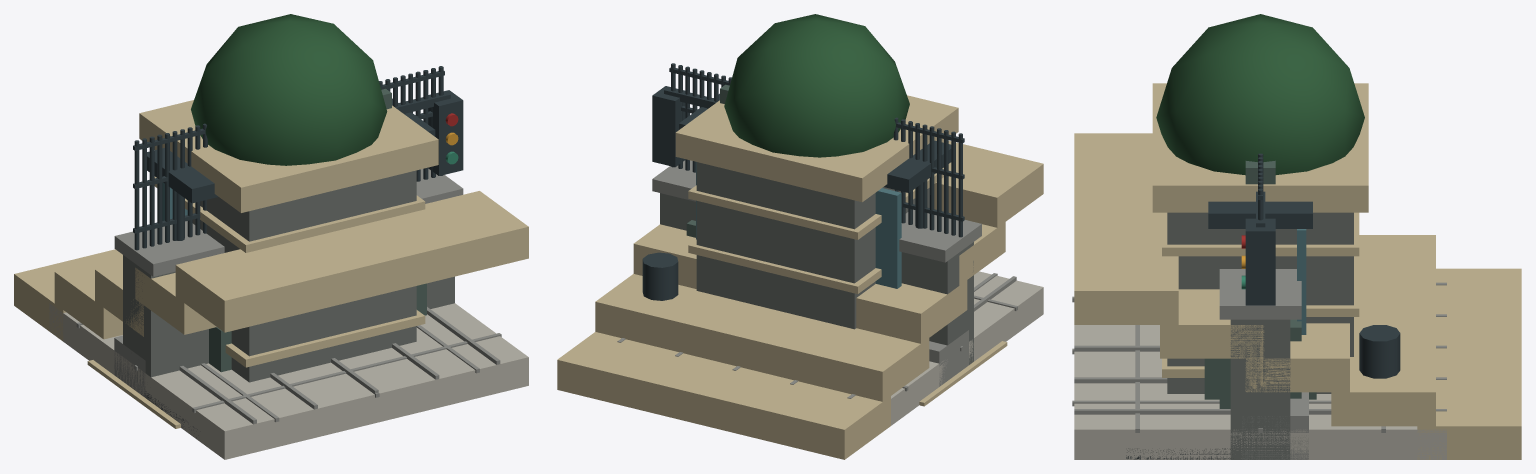
The model's file is street-river-modules.glb.
3 renders of one model, left to right at view 1: azimuth 30°, elevation 25°; view 2: azimuth 150°, elevation 25°; view 3: azimuth 270°, elevation 25°, orthographic. The views are drawn at different scales.
Visible parts, largest first — view 1: river-stairs-warm-limestone-merged, street-planter-foliage-merged, waterfront-walk-sidewalk-concrete-merged, bridge-abutment-warm-limestone-merged, bridge-abutment-river-wall-masonry-merged, sidewalk-pavers-sidewalk-concrete-merged, river-edge-dark-structural-steel-merged, river-edge-river-wall-masonry-merged, river-edge-architectural-concrete-merged, traffic-signal-dark-structural-steel-merged, waterfront-walk-architectural-concrete-merged, transit-shelter-dark-structural-steel-merged (+4 smaller); view 2: river-stairs-warm-limestone-merged, street-planter-foliage-merged, bridge-abutment-river-wall-masonry-merged, bridge-abutment-warm-limestone-merged, river-edge-dark-structural-steel-merged, river-edge-river-wall-masonry-merged, waterfront-walk-sidewalk-concrete-merged, river-edge-architectural-concrete-merged, sidewalk-pavers-sidewalk-concrete-merged, transit-shelter-smoked-curtain-glass-merged, traffic-signal-dark-structural-steel-merged, transit-shelter-dark-structural-steel-merged (+3 smaller); view 3: river-stairs-warm-limestone-merged, street-planter-foliage-merged, bridge-abutment-warm-limestone-merged, waterfront-walk-sidewalk-concrete-merged, bridge-abutment-river-wall-masonry-merged, sidewalk-pavers-sidewalk-concrete-merged, river-edge-river-wall-masonry-merged, river-edge-architectural-concrete-merged, traffic-signal-dark-structural-steel-merged, transit-shelter-dark-structural-steel-merged, waterfront-walk-architectural-concrete-merged, waterfront-walk-dark-structural-steel-merged (+6 smaller).
Part boxes in pixels (bbox=[...]): river-stairs-warm-limestone-merged: bbox=[14, 191, 528, 341]; street-planter-foliage-merged: bbox=[191, 14, 387, 165]; waterfront-walk-sidewalk-concrete-merged: bbox=[49, 303, 528, 459]; bridge-abutment-warm-limestone-merged: bbox=[139, 100, 438, 367]; bridge-abutment-river-wall-masonry-merged: bbox=[192, 170, 416, 382]; sidewalk-pavers-sidewalk-concrete-merged: bbox=[49, 306, 528, 459]; river-edge-dark-structural-steel-merged: bbox=[133, 66, 444, 250]; river-edge-river-wall-masonry-merged: bbox=[123, 255, 454, 377]; river-edge-architectural-concrete-merged: bbox=[114, 168, 463, 276]; traffic-signal-dark-structural-steel-merged: bbox=[392, 90, 463, 175]; waterfront-walk-architectural-concrete-merged: bbox=[179, 307, 500, 424]; transit-shelter-dark-structural-steel-merged: bbox=[147, 98, 435, 240]; river-stairs-warm-limestone-merged: bbox=[557, 140, 1043, 459]; street-planter-foliage-merged: bbox=[724, 14, 909, 157]; bridge-abutment-river-wall-masonry-merged: bbox=[696, 162, 929, 329]; bridge-abutment-warm-limestone-merged: bbox=[675, 95, 958, 293]; river-edge-dark-structural-steel-merged: bbox=[669, 63, 964, 237]; river-edge-river-wall-masonry-merged: bbox=[660, 193, 973, 364]; waterfront-walk-sidewalk-concrete-merged: bbox=[891, 271, 1043, 424]; river-edge-architectural-concrete-merged: bbox=[652, 160, 981, 262]; sidewalk-pavers-sidewalk-concrete-merged: bbox=[891, 290, 1043, 425]; transit-shelter-smoked-curtain-glass-merged: bbox=[696, 162, 901, 288]; traffic-signal-dark-structural-steel-merged: bbox=[652, 86, 719, 167]; transit-shelter-dark-structural-steel-merged: bbox=[679, 93, 951, 228]; river-stairs-warm-limestone-merged: bbox=[1074, 133, 1521, 459]; street-planter-foliage-merged: bbox=[1156, 14, 1364, 175]; bridge-abutment-warm-limestone-merged: bbox=[1152, 83, 1368, 377]; waterfront-walk-sidewalk-concrete-merged: bbox=[1074, 325, 1446, 459]; bridge-abutment-river-wall-masonry-merged: bbox=[1167, 212, 1353, 393]; sidewalk-pavers-sidewalk-concrete-merged: bbox=[1074, 433, 1446, 459]; river-edge-river-wall-masonry-merged: bbox=[1230, 319, 1290, 459]; river-edge-architectural-concrete-merged: bbox=[1219, 269, 1301, 319]; traffic-signal-dark-structural-steel-merged: bbox=[1245, 191, 1275, 305]; transit-shelter-dark-structural-steel-merged: bbox=[1208, 201, 1312, 228]; waterfront-walk-architectural-concrete-merged: bbox=[1074, 282, 1446, 414]; waterfront-walk-dark-structural-steel-merged: bbox=[1359, 325, 1400, 378].
Size of the model in its own units: 1.07 by 1.06 by 1.2.
